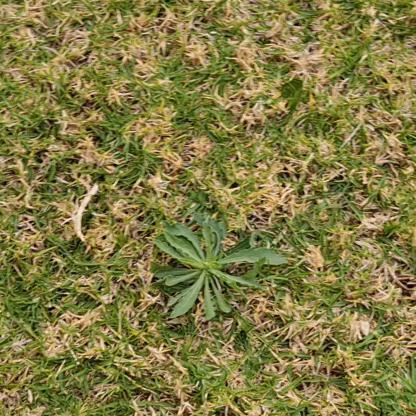Weeds: (152, 215, 289, 321)
